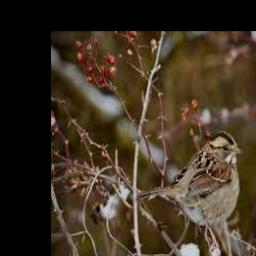Sparrow: (137, 131, 244, 239)
